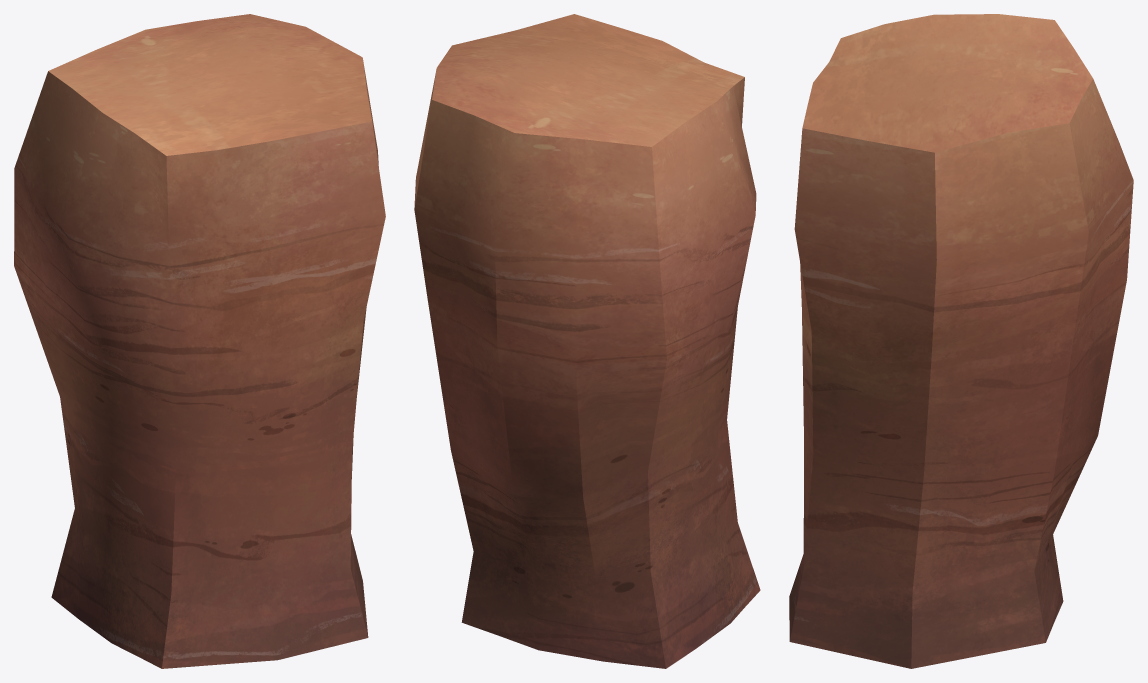
The model's file is tower_2.fbx.
3 views of the same model, side by side, from view 1: azimuth 30°, elevation 25°; view 2: azimuth 150°, elevation 25°; view 3: azimuth 270°, elevation 25° (orthographic).
Parts seen in each view (by area): view 1: tower 2; view 2: tower 2; view 3: tower 2.
Boxes of the visible parts, x1,y1,x2,y2 form: tower 2: (14, 14, 385, 668); tower 2: (414, 14, 760, 668); tower 2: (789, 14, 1133, 668).
Size of the model in its own units: 1196 by 1934 by 1115.
